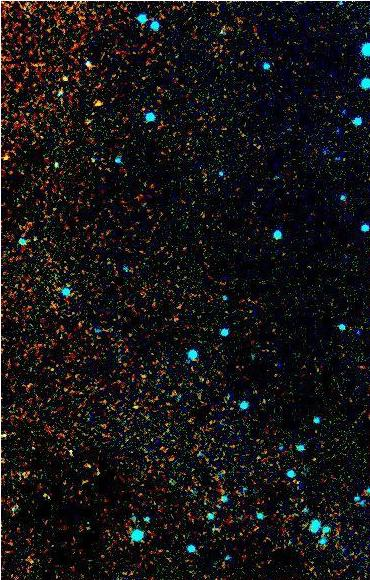star: (84, 87, 114, 117)
